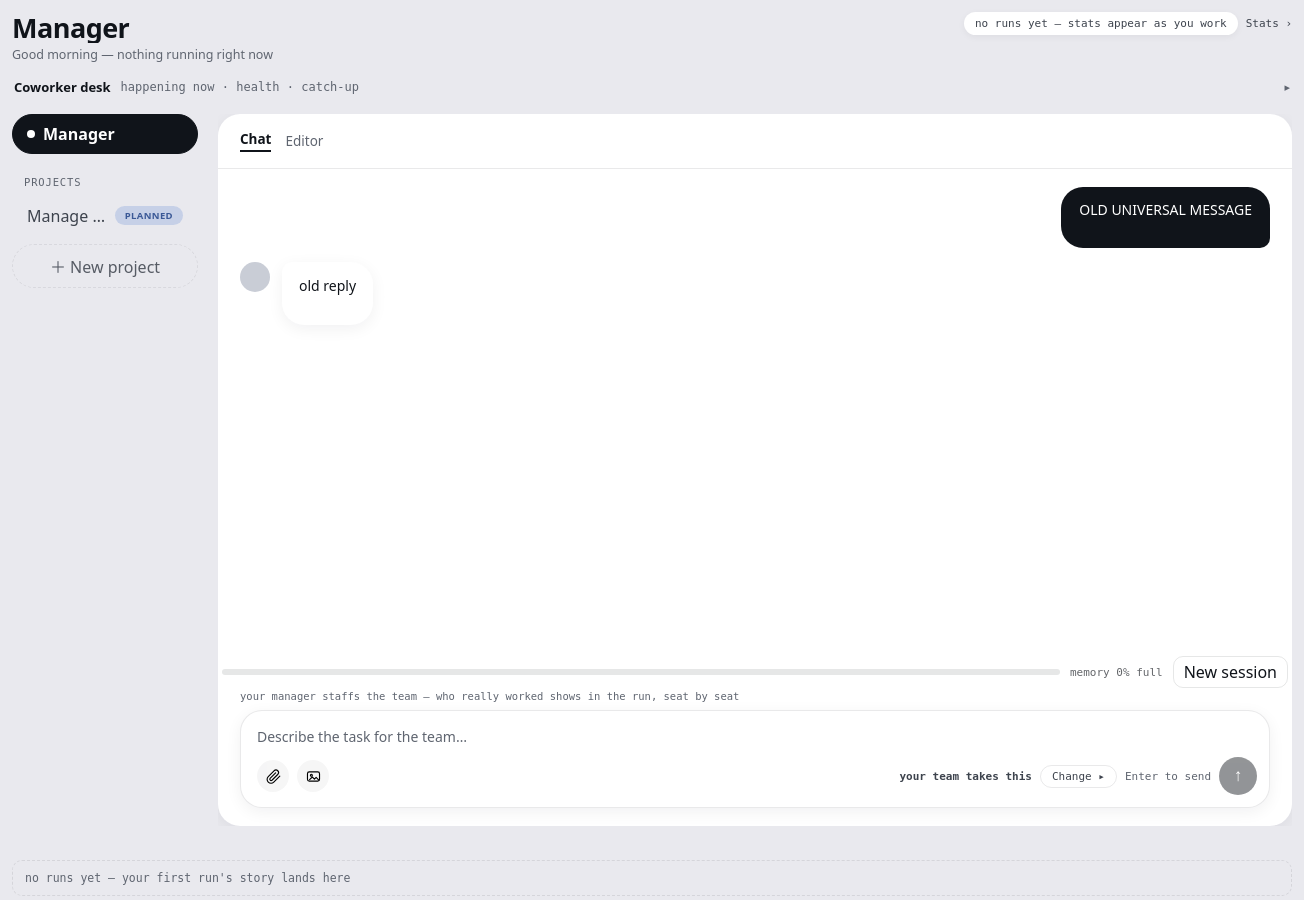
a new project opens its own fresh chat › after create, the universal thread history is not shown
Expected: the text "OLD UNIVERSAL MESSAGE" is shown, [1079,200,1252,218]
Click the button "＋ New project" at point(105, 266), box [12,244,198,288]
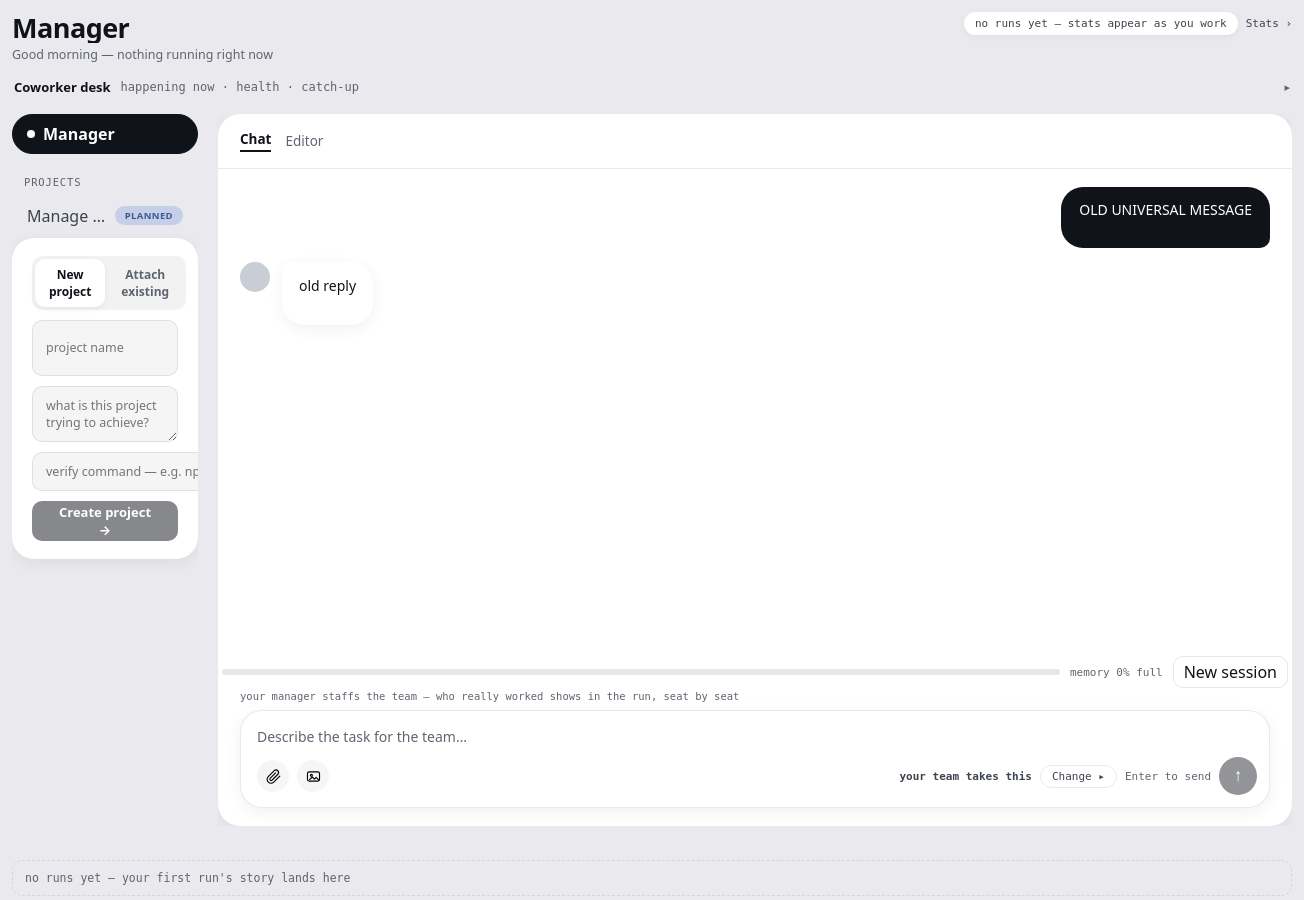
Type "fresh one" into the field labelled "project name" at point(105, 348), box [32,320,178,376]
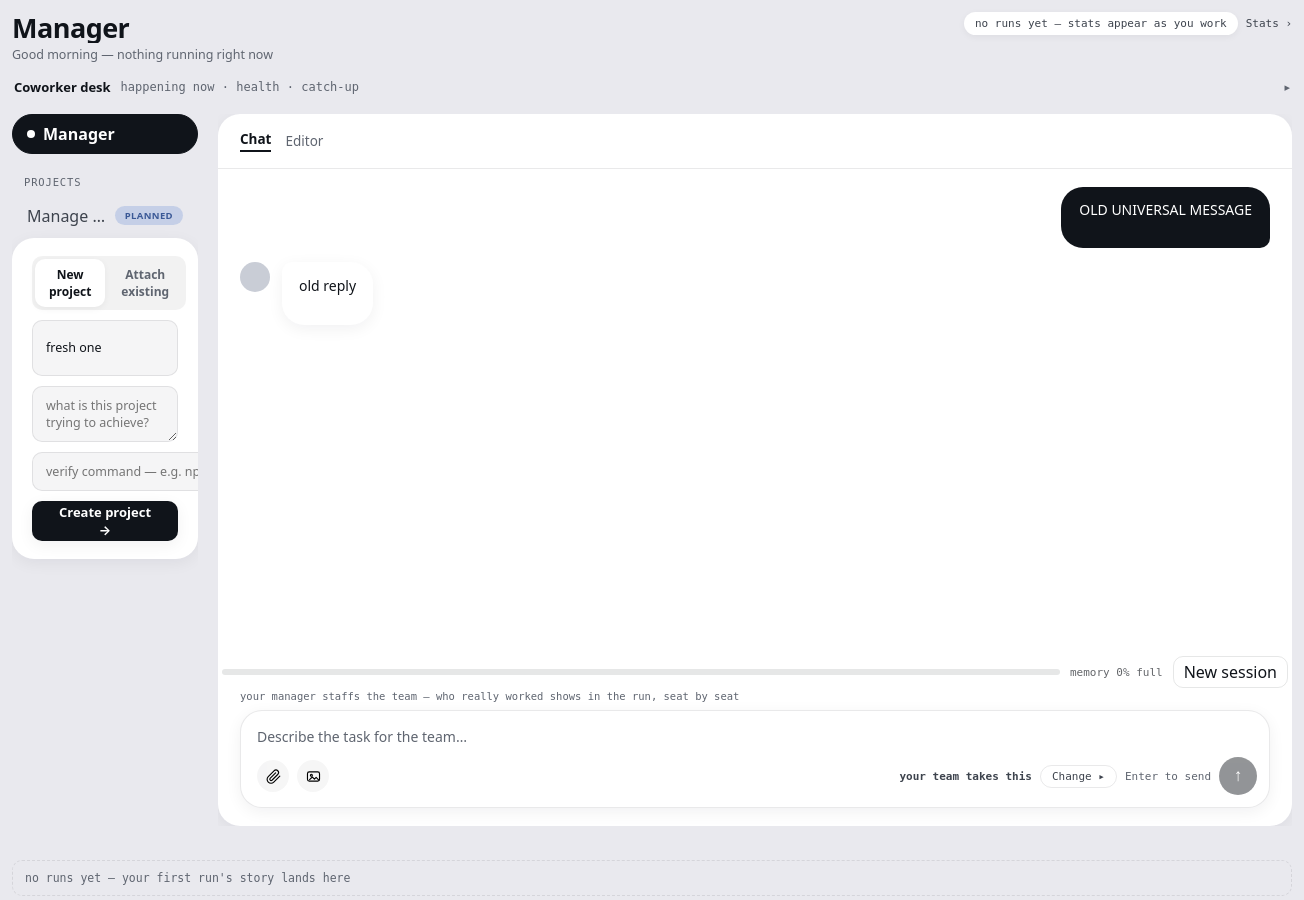
Click the button "Create project →" at point(105, 520), box [32,500,178,540]
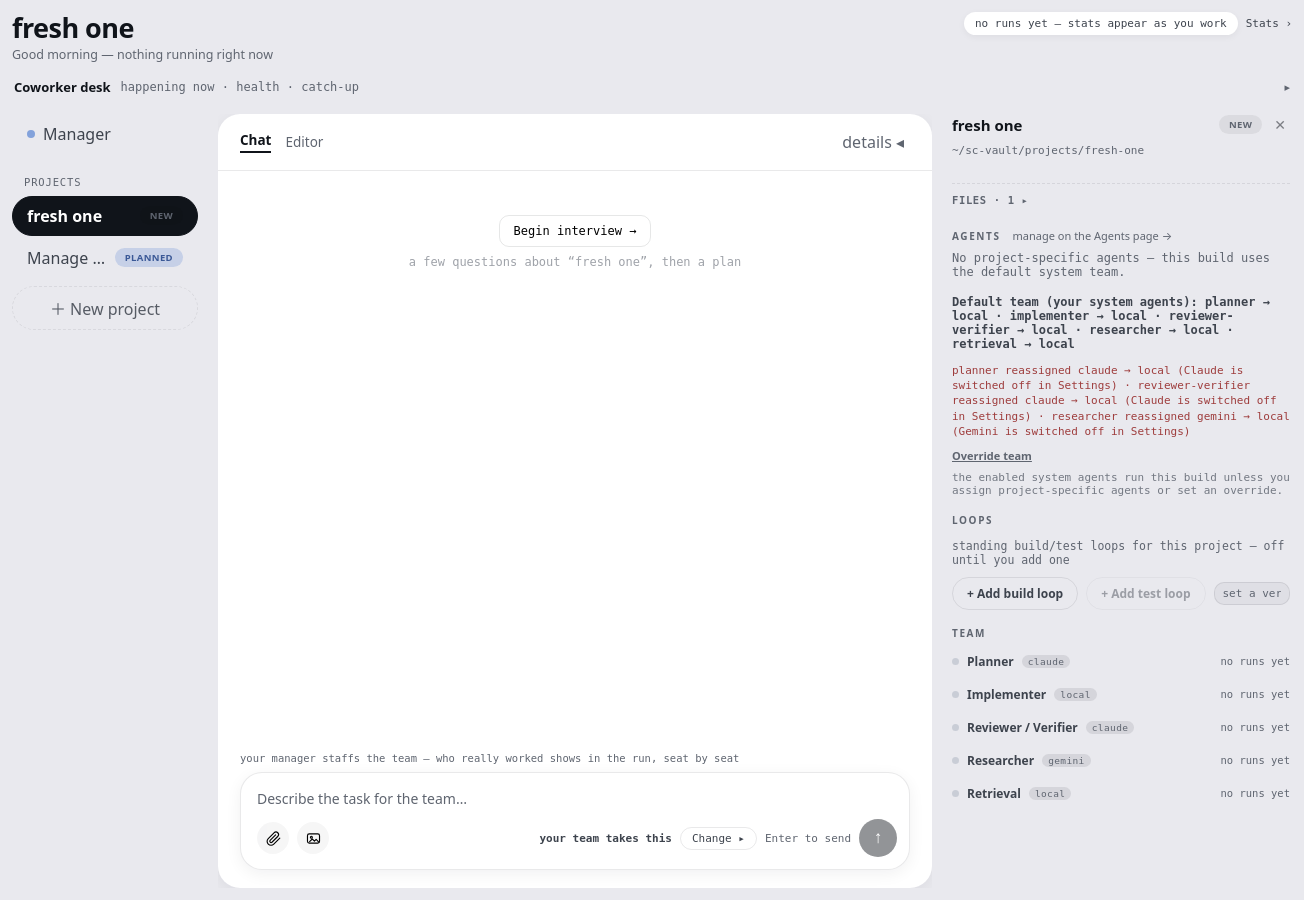
Result: the text "OLD UNIVERSAL MESSAGE" is gone
